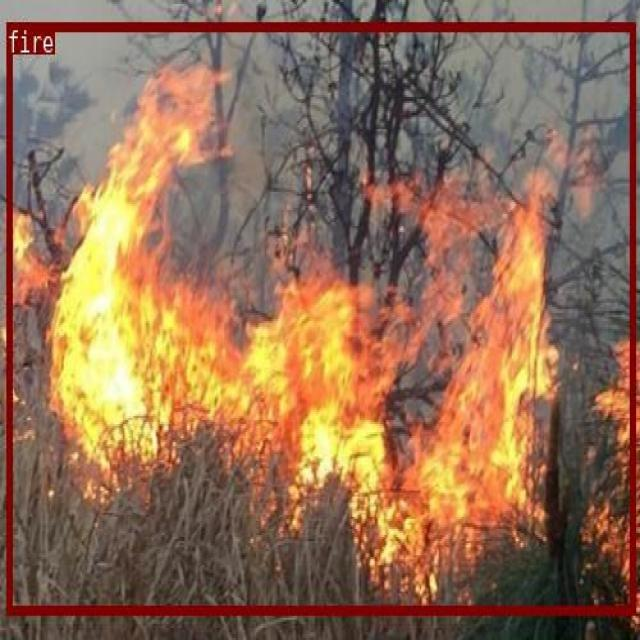fire: (5, 22, 635, 614)
